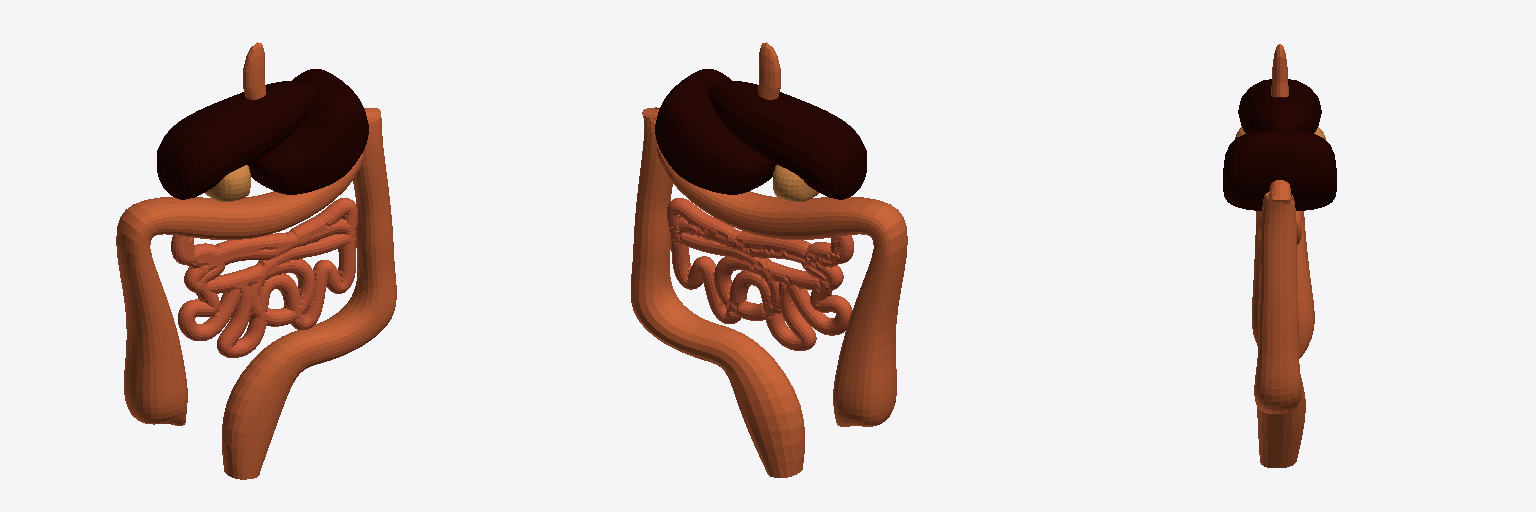
File: kidney.obj
3 renders of one model, left to right at view 1: azimuth 30°, elevation 25°; view 2: azimuth 150°, elevation 25°; view 3: azimuth 270°, elevation 25°, orthographic.
Parts seen in each view (by area): view 1: Vert.001; view 2: Vert.001; view 3: Vert.001.
Boxes of the visible parts, x1=… form: Vert.001: x1=116, y1=42, x2=396, y2=479; Vert.001: x1=631, y1=42, x2=907, y2=477; Vert.001: x1=1223, y1=44, x2=1336, y2=467.
Size of the model in its own units: 1.67 by 2.53 by 0.6116.